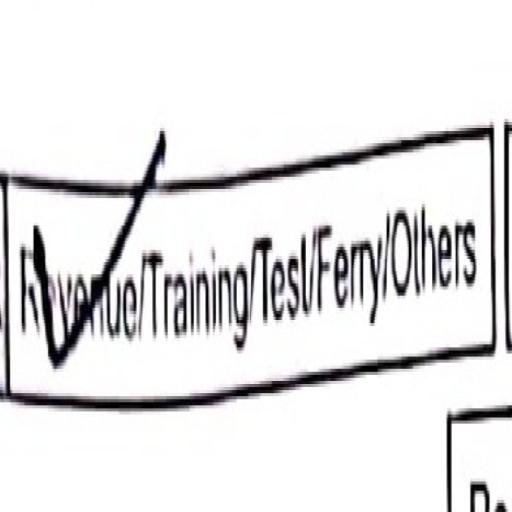check: (16, 69, 134, 486)
